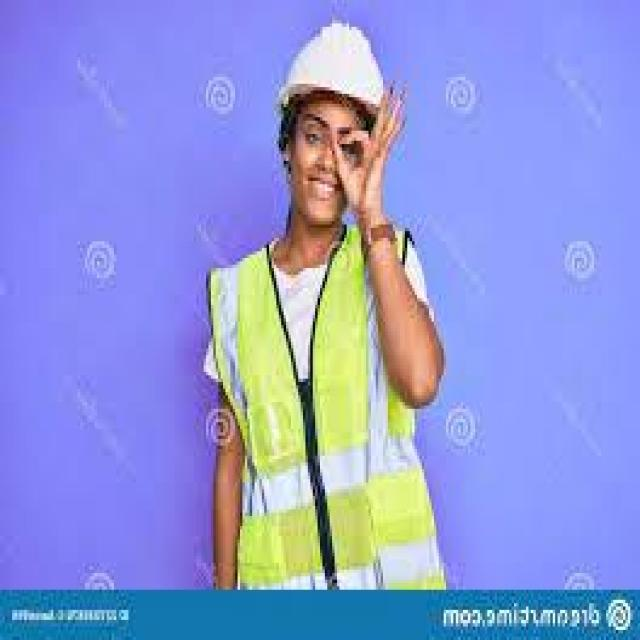Reflective-Jacket: (201, 218, 441, 586)
Safety-Helmet: (272, 17, 391, 127)
